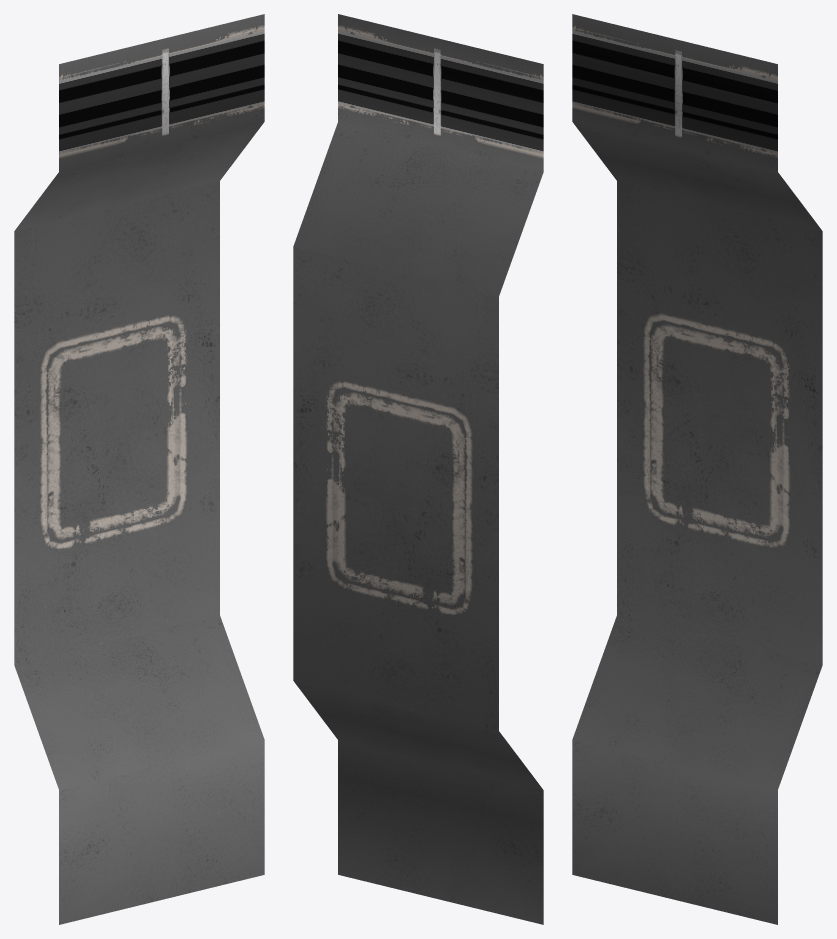
Rendered from Wall_1x4m_Hall.fbx.
3 renders of one model, left to right at view 1: azimuth 30°, elevation 25°; view 2: azimuth 150°, elevation 25°; view 3: azimuth 330°, elevation 25°, orthographic.
Visible parts, largest first — view 1: Wall_1x4m_Hallway; view 2: Wall_1x4m_Hallway; view 3: Wall_1x4m_Hallway.
Boxes of the visible parts, x1,y1,x2,y2 form: Wall_1x4m_Hallway: (14,14,264,924); Wall_1x4m_Hallway: (293,14,543,924); Wall_1x4m_Hallway: (572,14,822,924).
Size of the model in its own units: 100 by 400 by 37.87.
Materials: 1 (1 with a texture image).
